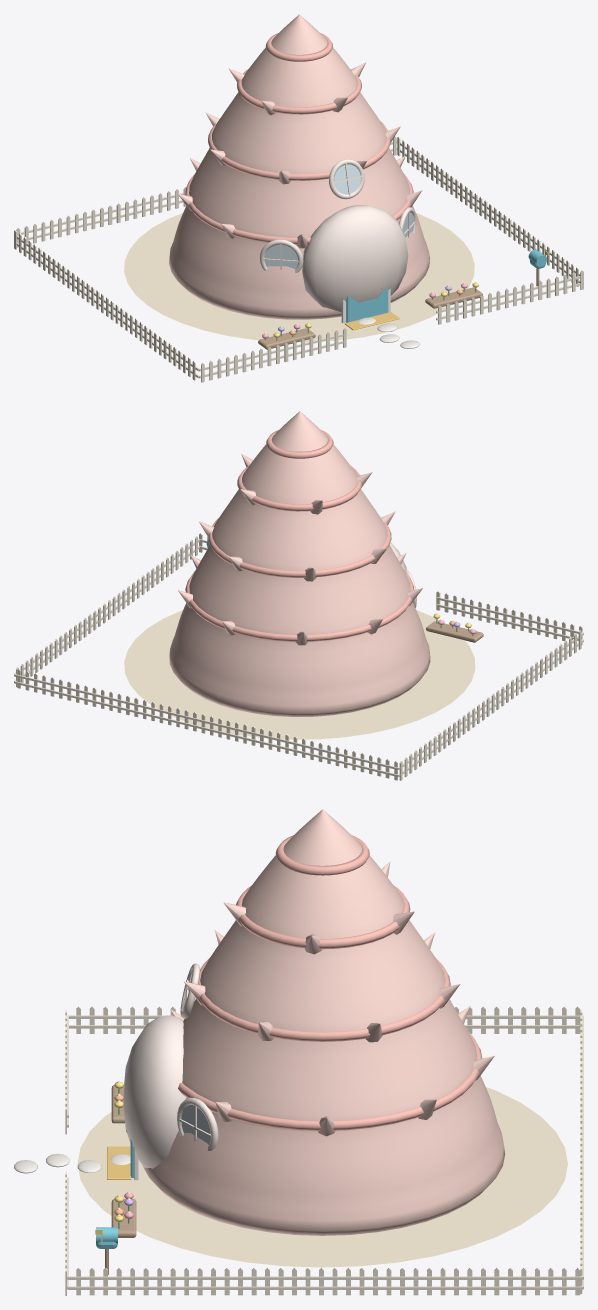
File: building_ocean_L07.glb
The picture shows the model from 3 angles, top to bottom: view 1: azimuth 30°, elevation 25°; view 2: azimuth 150°, elevation 25°; view 3: azimuth 270°, elevation 25°; orthographic projection. The views are drawn at different scales.
Parts seen in each view (by area): view 1: Body, ocean_L7; view 2: Body, ocean_L7; view 3: Body, ocean_L7.
Boxes of the visible parts, x1,y1,x2,y2 form: Body: (124,14,474,342); ocean_L7: (14,136,583,382); Body: (124,411,475,739); ocean_L7: (14,533,583,780); Body: (77,809,567,1267); ocean_L7: (14,1006,583,1295).
Bounding box in the file's own units: 25.35 × 16.4 × 23.24.
